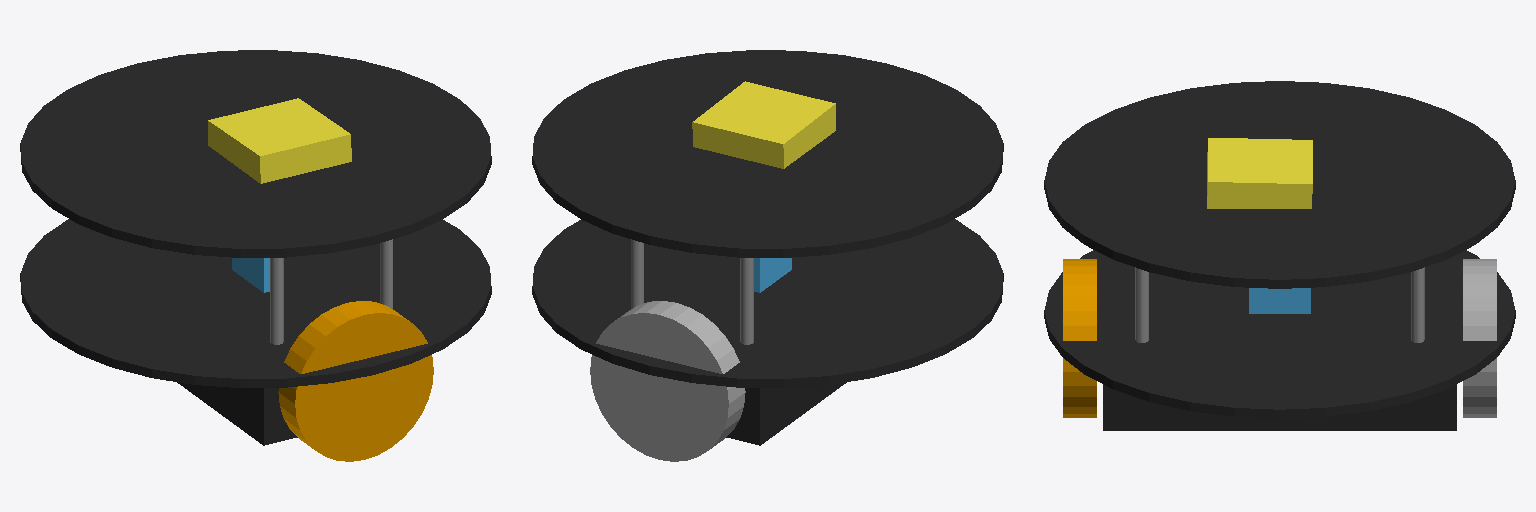
robot.urdf — arlobot:
<?xml version="1.0" ?>
<robot name="arlobot" xmlns:xacro="http://ros.org/wiki/xacro">
    <material name="Green">
        <color rgba="0.0 0.8 0.0 1.0"/>
    </material>
    <material name="veryDarkGrey">
        <color rgba=".2 .2 .2 1"/>
    </material>
    <material name="light_grey">
        <color rgba="0.6 0.6 0.6 1"/>
    </material>
    <!-- base_footprint is a fictitious link(frame) that is on the ground right below base_link origin, navigation stack depends on this frame -->
    <link name="base_footprint">
        <visual>
            <origin rpy="0 0 0" xyz="0 0 0"/>
            <geometry>
                <box size="0.001 0.001 0.001"/>
            </geometry>
            <material name="Green"/>
        </visual>
        <collision>
            <origin rpy="0 0 0" xyz="0 0 0.017"/>
            <geometry>
                <box size="0.001 0.001 0.001"/>
            </geometry>
        </collision>
    </link>
    <link name="base_link">
        <inertial>
            <mass value="2"/>
            <origin xyz="0 0 0.0"/>
            <inertia ixx="0.01" ixy="0.0" ixz="0.0" iyy="0.01" iyz="0.0" izz="0.5"/>
        </inertial>
        <visual>
            <origin rpy="0 0 0" xyz="0 0 0"/>
            <geometry>
                <cylinder length="0.0095" radius="0.2245"/>
            </geometry>
            <material name="veryDarkGrey"/>
        </visual>
        <collision>
            <origin rpy="0 0 0" xyz="0 0 0"/>
            <geometry>
                <cylinder length="0.0095" radius="0.2245"/>
            </geometry>
        </collision>
    </link>
    <link name="battery_box">
        <inertial>
            <mass value="0.001"/>
            <origin xyz="0 0 0"/>
            <inertia ixx="0.0001" ixy="0.0" ixz="0.0" iyy="0.0001" iyz="0.0" izz="0.0001"/>
        </inertial>
        <visual>
            <origin rpy="0 0 0" xyz="0 0 0"/>
            <geometry>
                <box size="0.1778 0.3366 0.0762"/>
            </geometry>
            <material name="veryDarkGrey"/>
        </visual>
        <collision>
            <origin rpy="0 0 0" xyz="0 0 0"/>
            <geometry>
                <box size="0.1778 0.3366 0.0762"/>
            </geometry>
        </collision>
    </link>
    <joint name="battery_box_joint" type="fixed">
        <origin rpy="0 0 0" xyz="0 0 -0.04285"/>
        <parent link="base_link"/>
        <child link="battery_box"/>
    </joint>
    <link name="front_caster">
        <inertial>
            <mass value="0.001"/>
            <origin xyz="0 0 0"/>
            <inertia ixx="0.0001" ixy="0.0" ixz="0.0" iyy="0.0001" iyz="0.0" izz="0.0001"/>
        </inertial>
        <visual>
            <origin rpy="-1.5707 0 1.5707" xyz="0 0 0"/>
            <geometry>
                <mesh filename="package://arlobot_description/meshes/28971-Caster-Wheel-Kit-v1.0.stl"/>
            </geometry>
            <material name="light_grey">
                <color rgba="0.6 0.6 0.6 1"/>
            </material>
        </visual>
    </link>
    <joint name="front_caster_joint" type="fixed">
        <origin rpy="0 0 0" xyz="0.18745 0 -0.00475"/>
        <parent link="base_link"/>
        <child link="front_caster"/>
    </joint>
    <link name="rear_caster">
        <inertial>
            <mass value="0.001"/>
            <origin xyz="0 0 0"/>
            <inertia ixx="0.0001" ixy="0.0" ixz="0.0" iyy="0.0001" iyz="0.0" izz="0.0001"/>
        </inertial>
        <visual>
            <origin rpy="-1.5707 0 1.5707" xyz="0 0 0"/>
            <geometry>
                <mesh filename="package://arlobot_description/meshes/28971-Caster-Wheel-Kit-v1.0.stl"/>
            </geometry>
            <material name="light_grey">
                <color rgba="0.6 0.6 0.6 1"/>
            </material>
        </visual>
    </link>
    <joint name="rear_caster_joint" type="fixed">
        <origin rpy="0 0 0" xyz="-0.18745 0 -0.00475"/>
        <parent link="base_link"/>
        <child link="rear_caster"/>
    </joint>
    <joint name="base_footprint_joint" type="fixed">
        <origin rpy="0 0 0" xyz="0 0 0.10125"/>
        <parent link="base_footprint"/>
        <child link="base_link"/>
    </joint>
    <link name="left_axle_link">
        <inertial>
            <origin xyz="0 0 0"/>
            <mass value="0.01"/>
            <inertia ixx="0.001" ixy="0.0" ixz="0.0" iyy="0.001" iyz="0.0" izz="0.001"/>
        </inertial>
        <visual>
            <origin rpy="0 1.5707 1.5707" xyz="0 0 0"/>
            <geometry>
                <cylinder length="0.00635" radius="0.00635"/>
            </geometry>
            <material name="light_grey"/>
        </visual>
        <collision>
            <origin rpy="0 1.5707 1.5707" xyz="0 0 0"/>
            <geometry>
                <cylinder length="0.00635" radius="0.00635"/>
            </geometry>
        </collision>
    </link>
    <joint name="left_axle_joint" type="fixed">
        <origin rpy="0 0 0" xyz="0 0.171475 0.0178"/>
        <parent link="battery_box"/>
        <child link="left_axle_link"/>
        <axis xyz="0 1 0"/>
    </joint>
    <link name="right_axle_link">
        <inertial>
            <origin xyz="0 0 0"/>
            <mass value="0.01"/>
            <inertia ixx="0.001" ixy="0.0" ixz="0.0" iyy="0.001" iyz="0.0" izz="0.001"/>
        </inertial>
        <visual>
            <origin rpy="0 1.5707 1.5707" xyz="0 0 0"/>
            <geometry>
                <cylinder length="0.00635" radius="0.00635"/>
            </geometry>
            <material name="light_grey"/>
        </visual>
        <collision>
            <origin rpy="0 1.5707 1.5707" xyz="0 0 0"/>
            <geometry>
                <cylinder length="0.00635" radius="0.00635"/>
            </geometry>
        </collision>
    </link>
    <joint name="right_axle_joint" type="fixed">
        <origin rpy="0 0 0" xyz="0 -0.171475 0.0178"/>
        <parent link="battery_box"/>
        <child link="right_axle_link"/>
        <axis xyz="0 1 0"/>
    </joint>
    <link name="left_wheel_link">
        <inertial>
            <origin xyz="0 0 0"/>
            <mass value="0.01"/>
            <inertia ixx="0.001" ixy="0.0" ixz="0.0" iyy="0.001" iyz="0.0" izz="0.001"/>
        </inertial>
        <visual>
            <origin rpy="0 1.5707 1.5707" xyz="0 0 0"/>
            <geometry>
                <cylinder length="0.03175" radius="0.0762"/>
            </geometry>
            <material name="black"/>
        </visual>
        <collision>
            <origin rpy="0 1.5707 1.5707" xyz="0 0 0"/>
            <geometry>
                <cylinder length="0.03175" radius="0.0762"/>
            </geometry>
        </collision>
    </link>
    <!-- Fixed because we never rotate it anyway, it 
   is just for show -->
    <!-- NOTE This may prevent gazebo from working with this 
   model -->
    <joint name="left_wheel_joint" type="fixed">
        <origin rpy="0 0 0" xyz="0 0.01905 0"/>
        <parent link="left_axle_link"/>
        <child link="left_wheel_link"/>
        <axis xyz="0 1 0"/>
    </joint>
    <link name="right_wheel_link">
        <inertial>
            <origin xyz="0 0 0"/>
            <mass value="0.01"/>
            <inertia ixx="0.001" ixy="0.0" ixz="0.0" iyy="0.001" iyz="0.0" izz="0.001"/>
        </inertial>
        <visual>
            <origin rpy="0 1.5707 1.5707" xyz="0 0 0"/>
            <geometry>
                <cylinder length="0.03175" radius="0.0762"/>
            </geometry>
            <material name="black"/>
        </visual>
        <collision>
            <origin rpy="0 1.5707 1.5707" xyz="0 0 0"/>
            <geometry>
                <cylinder length="0.03175" radius="0.0762"/>
            </geometry>
        </collision>
    </link>
    <!-- Fixed because we never 
   rotate it anyway, it is just for show -->
    <!-- NOTE This may prevent gazebo 
   from working with this model -->
    <joint name="right_wheel_joint" type="fixed">
        <origin rpy="0 0 0" xyz="0 -0.01905 0"/>
        <parent link="right_axle_link"/>
        <child link="right_wheel_link"/>
        <axis xyz="0 1 0"/>
    </joint>
    <!-- This pretends to be in the center in order to aid in 
   calculating degrees from multiple sensors on one fake laser scan -->
    <joint name="ping_array_joint" type="fixed">
        <origin rpy="0 0 0" xyz="0 0 0.03695"/>
        <parent link="base_link"/>
        <child link="ping_sensor_array"/>
    </joint>
    <link name="ping_sensor_array">
        <visual>
            <geometry>
                <box size="0.0174 0.06 0.0644"/>
            </geometry>
        </visual>
        <inertial>
            <mass value="0.001"/>
            <origin xyz="0 0 0"/>
            <inertia ixx="0.0001" ixy="0.0" ixz="0.0" iyy="0.0001" iyz="0.0" izz="0.0001"/>
        </inertial>
    </link>
    <joint name="ir_array_joint" type="fixed">
        <origin rpy="0 0 0" xyz="0 0 0.03695"/>
        <parent link="base_link"/>
        <child link="ir_sensor_array"/>
    </joint>
    <link name="ir_sensor_array">
        <visual>
            <geometry>
                <box size="0.0174 0.06 0.0644"/>
            </geometry>
        </visual>
        <inertial>
            <mass value="0.001"/>
            <origin xyz="0 0 0"/>
            <inertia ixx="0.0001" ixy="0.0" ixz="0.0" iyy="0.0001" iyz="0.0" izz="0.0001"/>
        </inertial>
    </link>
    <!-- XV11 Neato Laser scanner. Hopefully it is exactly 
   in the center. :) -->
    <joint name="neato_laser_joint" type="fixed">
        <!-- Minor adjustments based on ligning up XV11 output with 3D Sensor output 
   -->
        <!-- So if the 3D sensor is misallgined the XV11 is off by the same amount 
   -->
        <origin rpy="-0.025 0 0" xyz="0.015 -0.02 0.11875"/>
        <parent link="base_link"/>
        <child link="neato_laser"/>
    </joint>
    <link name="neato_laser">
        <visual>
            <geometry>
                <box size="0.1 0.1 0.1"/>
            </geometry>
        </visual>
        <inertial>
            <mass value="0.001"/>
            <origin xyz="0 0 0"/>
            <inertia ixx="0.0001" ixy="0.0" ixz="0.0" iyy="0.0001" iyz="0.0" izz="0.0001"/>
        </inertial>
    </link>
    <joint name="plate_0_joint" type="fixed">
        <origin rpy="0 0 0" xyz="0 0 0.1365"/>
        <parent link="base_link"/>
        <child link="plate_0_link"/>
    </joint>
    <link name="plate_0_link">
        <inertial>
            <mass value="0.01"/>
            <origin xyz="0 0 0"/>
            <inertia ixx="0.01" ixy="0.0" ixz="0.0" iyy="0.01" iyz="0.0" izz="0.01"/>
        </inertial>
        <visual>
            <origin rpy="0 0 0" xyz=" 0 0 0 "/>
            <geometry>
                <cylinder length="0.0095" radius="0.2245"/>
            </geometry>
            <material name="veryDarkGrey">
                <color rgba=".2 .2 .2 1"/>
            </material>
        </visual>
        <collision>
            <origin rpy="0 0 0" xyz="0.0 0.0 0.0"/>
            <geometry>
                <cylinder length="0.0095" radius="0.2245"/>
            </geometry>
        </collision>
    </link>
    <joint name="standoff_5in_0_joint" type="fixed">
        <origin rpy="0 0 0" xyz="0.0676402 0.1314196 0.06825"/>
        <parent link="base_link"/>
        <child link="standoff_5in_0_link"/>
    </joint>
    <link name="standoff_5in_0_link">
        <inertial>
            <mass value="0.001"/>
            <origin xyz="0 0 0"/>
            <inertia ixx="0.0001" ixy="0.0" ixz="0.0" iyy="0.0001" iyz="0.0" izz="0.0001"/>
        </inertial>
        <visual>
            <origin rpy="0 0 0" xyz=" 0 0 0 "/>
            <geometry>
                <cylinder length="0.127" radius="0.00635"/>
            </geometry>
            <material name="light_grey">
                <color rgba="0.6 0.6 0.6 1"/>
            </material>
        </visual>
        <collision>
            <origin rpy="0 0 0" xyz="0.0 0.0 0.0"/>
            <geometry>
                <cylinder length="0.127" radius="0.00635"/>
            </geometry>
        </collision>
    </link>
    <joint name="standoff_5in_1_joint" type="fixed">
        <origin rpy="0 0 0" xyz="0.0676402 -0.1314196 0.06825"/>
        <parent link="base_link"/>
        <child link="standoff_5in_1_link"/>
    </joint>
    <link name="standoff_5in_1_link">
        <inertial>
            <mass value="0.001"/>
            <origin xyz="0 0 0"/>
            <inertia ixx="0.0001" ixy="0.0" ixz="0.0" iyy="0.0001" iyz="0.0" izz="0.0001"/>
        </inertial>
        <visual>
            <origin rpy="0 0 0" xyz=" 0 0 0 "/>
            <geometry>
                <cylinder length="0.127" radius="0.00635"/>
            </geometry>
            <material name="light_grey">
                <color rgba="0.6 0.6 0.6 1"/>
            </material>
        </visual>
        <collision>
            <origin rpy="0 0 0" xyz="0.0 0.0 0.0"/>
            <geometry>
                <cylinder length="0.127" radius="0.00635"/>
            </geometry>
        </collision>
    </link>
    <joint name="standoff_5in_2_joint" type="fixed">
        <origin rpy="0 0 0" xyz="-0.052832 -0.1314196 0.06825"/>
        <parent link="base_link"/>
        <child link="standoff_5in_2_link"/>
    </joint>
    <link name="standoff_5in_2_link">
        <inertial>
            <mass value="0.001"/>
            <origin xyz="0 0 0"/>
            <inertia ixx="0.0001" ixy="0.0" ixz="0.0" iyy="0.0001" iyz="0.0" izz="0.0001"/>
        </inertial>
        <visual>
            <origin rpy="0 0 0" xyz=" 0 0 0 "/>
            <geometry>
                <cylinder length="0.127" radius="0.00635"/>
            </geometry>
            <material name="light_grey">
                <color rgba="0.6 0.6 0.6 1"/>
            </material>
        </visual>
        <collision>
            <origin rpy="0 0 0" xyz="0.0 0.0 0.0"/>
            <geometry>
                <cylinder length="0.127" radius="0.00635"/>
            </geometry>
        </collision>
    </link>
    <joint name="standoff_5in_3_joint" type="fixed">
        <origin rpy="0 0 0" xyz="-0.052832 0.1314196 0.06825"/>
        <parent link="base_link"/>
        <child link="standoff_5in_3_link"/>
    </joint>
    <link name="standoff_5in_3_link">
        <inertial>
            <mass value="0.001"/>
            <origin xyz="0 0 0"/>
            <inertia ixx="0.0001" ixy="0.0" ixz="0.0" iyy="0.0001" iyz="0.0" izz="0.0001"/>
        </inertial>
        <visual>
            <origin rpy="0 0 0" xyz=" 0 0 0 "/>
            <geometry>
                <cylinder length="0.127" radius="0.00635"/>
            </geometry>
            <material name="light_grey">
                <color rgba="0.6 0.6 0.6 1"/>
            </material>
        </visual>
        <collision>
            <origin rpy="0 0 0" xyz="0.0 0.0 0.0"/>
            <geometry>
                <cylinder length="0.127" radius="0.00635"/>
            </geometry>
        </collision>
    </link>
    <joint name="camera_rgb_joint" type="fixed">
        <origin rpy="-0.01 0 0" xyz="-0.17745 0.0205 0.2985"/>
        <parent link="base_link"/>
        <child link="camera_rgb_frame"/>
    </joint>
    <link name="camera_rgb_frame"/>
    <joint name="camera_rgb_optical_joint" type="fixed">
        <origin rpy="-1.57079632679 0 -1.57079632679" xyz="0 0 0"/>
        <parent link="camera_rgb_frame"/>
        <child link="camera_rgb_optical_frame"/>
    </joint>
    <link name="camera_rgb_optical_frame"/>
    <joint name="camera_joint" type="fixed">
        <origin rpy="0 0 0" xyz="0 -0.022 0"/>
        <parent link="camera_rgb_frame"/>
        <child link="camera_link"/>
    </joint>
    <link name="camera_link">
        <visual>
            <origin rpy="0 0 0" xyz="-0.015 0.0035 0.004"/>
            <geometry>
                <mesh filename="package://arlobot_description/meshes/sensors/xtion_pro_camera.dae"/>
            </geometry>
        </visual>
        <collision>
            <origin rpy="0 0 0" xyz="0.0 0.0 0.0"/>
            <geometry>
                <box size="0.0730 0.2760 0.0720"/>
            </geometry>
        </collision>
        <inertial>
            <mass value="0.170"/>
            <origin xyz="0 0 0"/>
            <inertia ixx="0.001152600" ixy="0.0" ixz="0.0" iyy="0.000148934" iyz="0.0" izz="0.001154654"/>
        </inertial>
    </link>
    <joint name="camera_depth_joint" type="fixed">
        <origin rpy="0 0 0" xyz="0 0.027 0"/>
        <parent link="camera_rgb_frame"/>
        <child link="camera_depth_frame"/>
    </joint>
    <link name="camera_depth_frame"/>
    <joint name="camera_depth_optical_joint" type="fixed">
        <origin rpy="-1.57079632679 0 -1.57079632679" xyz="0 0 0"/>
        <parent link="camera_depth_frame"/>
        <child link="camera_depth_optical_frame"/>
    </joint>
    <link name="camera_depth_optical_frame"/>
    <gazebo reference="camera_link">
        <sensor name="camera" type="depth">
            <always_on>true</always_on>
            <update_rate>20.0</update_rate>
            <camera>
                <horizontal_fov>1.0471975512</horizontal_fov>
                <image>
                    <format>R8G8B8</format>
                    <width>640</width>
                    <height>480</height>
                </image>
                <clip>
                    <near>0.05</near>
                    <far>8.0</far>
                </clip>
            </camera>
            <plugin filename="libgazebo_ros_openni_kinect.so" name="kinect_camera_controller">
                <cameraName>camera</cameraName>
                <alwaysOn>true</alwaysOn>
                <updateRate>10</updateRate>
                <imageTopicName>rgb/image_raw</imageTopicName>
                <depthImageTopicName>depth/image_raw</depthImageTopicName>
                <pointCloudTopicName>depth/points</pointCloudTopicName>
                <cameraInfoTopicName>rgb/camera_info</cameraInfoTopicName>
                <depthImageCameraInfoTopicName>depth/camera_info</depthImageCameraInfoTopicName>
                <frameName>camera_depth_optical_frame</frameName>
                <baseline>0.1</baseline>
                <distortion_k1>0.0</distortion_k1>
                <distortion_k2>0.0</distortion_k2>
                <distortion_k3>0.0</distortion_k3>
                <distortion_t1>0.0</distortion_t1>
                <distortion_t2>0.0</distortion_t2>
                <pointCloudCutoff>0.4</pointCloudCutoff>
            </plugin>
        </sensor>
    </gazebo>
    <!-- Asus mount -->
    <joint name="mount_asus_xtion_pro_joint" type="fixed">
        <origin rpy="0 0 0" xyz="-0.1024 
   0.0 0.272"/>
        <parent link="base_link"/>
        <child link="mount_asus_xtion_pro_link"/>
    </joint>
    <link name="mount_asus_xtion_pro_link">
        <visual>
            <origin rpy="-1.57079632679 0 0" xyz="0 0 0"/>
            <geometry>
                <mesh filename="package://arlobot_description/meshes/sensors/xtion_pro_stack.dae"/>
            </geometry>
        </visual>
        <collision>
            <origin rpy="0 0 0" xyz="0.0 0.0 0.0"/>
            <geometry>
                <box size="0.0330 0.2760 0.0120"/>
            </geometry>
        </collision>
        <inertial>
            <mass value="0.170"/>
            <origin xyz="0 0 0"/>
            <inertia ixx="0.001152600" ixy="0.0" ixz="0.0" iyy="0.000148934" iyz="0.0" izz="0.001154654"/>
        </inertial>
    </link>
</robot>

--- What the picture shows (computed from the rendered views, not written in the file) ---
Views: 3 orthographic renders of the robot side by side, from view 1: azimuth 30°, elevation 25°; view 2: azimuth 150°, elevation 25°; view 3: azimuth 270°, elevation 25°.
Model arlobot with 23 links and 22 joints (22 fixed), rooted at base_footprint, posed all joints at 0.
Visible links, largest first — view 1: plate_0_link, base_link, right_wheel_link, neato_laser, battery_box, standoff_5in_2_link, ping_sensor_array, standoff_5in_1_link; view 2: plate_0_link, base_link, left_wheel_link, neato_laser, battery_box, standoff_5in_3_link, ping_sensor_array, standoff_5in_0_link; view 3: plate_0_link, base_link, battery_box, neato_laser, left_wheel_link, right_wheel_link, ping_sensor_array, standoff_5in_0_link, standoff_5in_1_link.
Boxes of the visible links, <box> form: plate_0_link: <box>20,50,491,257</box>; base_link: <box>20,219,491,387</box>; right_wheel_link: <box>278,301,433,461</box>; neato_laser: <box>208,98,351,183</box>; battery_box: <box>177,382,297,445</box>; standoff_5in_2_link: <box>270,258,283,344</box>; ping_sensor_array: <box>232,258,269,292</box>; standoff_5in_1_link: <box>380,239,392,308</box>; plate_0_link: <box>532,50,1003,257</box>; base_link: <box>532,219,1003,387</box>; left_wheel_link: <box>590,301,745,461</box>; neato_laser: <box>692,81,835,168</box>; battery_box: <box>726,382,846,445</box>; standoff_5in_3_link: <box>740,258,753,344</box>; ping_sensor_array: <box>754,258,791,292</box>; standoff_5in_0_link: <box>631,239,643,308</box>; plate_0_link: <box>1044,81,1515,288</box>; base_link: <box>1044,250,1515,418</box>; battery_box: <box>1103,384,1456,430</box>; neato_laser: <box>1207,138,1312,208</box>; left_wheel_link: <box>1463,259,1496,417</box>; right_wheel_link: <box>1063,259,1096,417</box>; ping_sensor_array: <box>1249,288,1310,313</box>; standoff_5in_0_link: <box>1411,267,1424,342</box>; standoff_5in_1_link: <box>1135,267,1148,342</box>.
Bounding box of the posed robot: 0.449 × 0.449 × 0.2717 m (x, y, z).
0 mesh visuals loaded from 3 distinct referenced files (none loaded); not drawn: 4 (reference not matched to a file when rendering).
